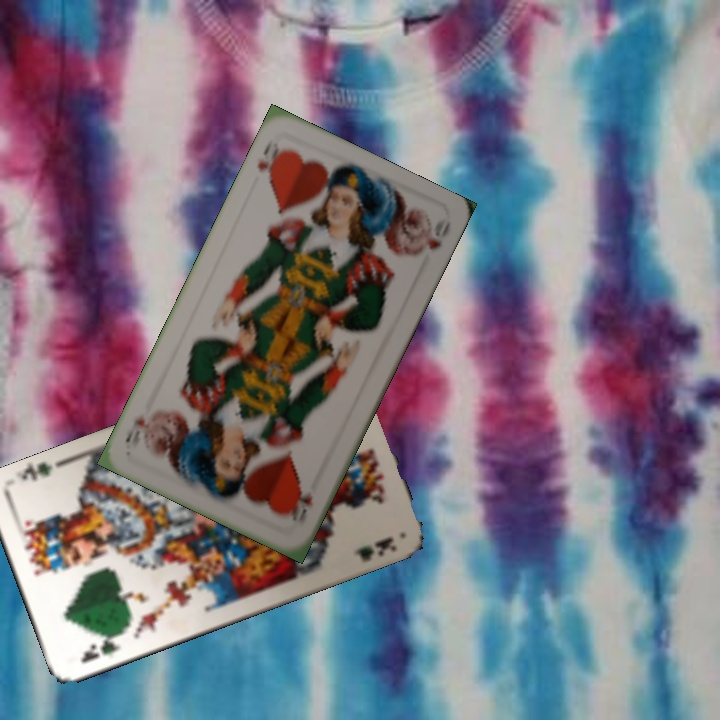GK: (76, 628, 125, 666)
HO: (252, 135, 287, 186), (287, 487, 316, 530)
